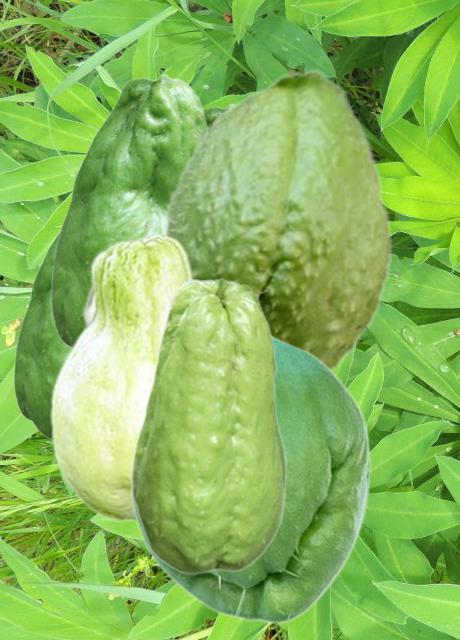sayote: (162, 67, 393, 371), (129, 333, 370, 624), (130, 277, 287, 575), (49, 232, 197, 524), (50, 73, 207, 347), (13, 228, 69, 440)
